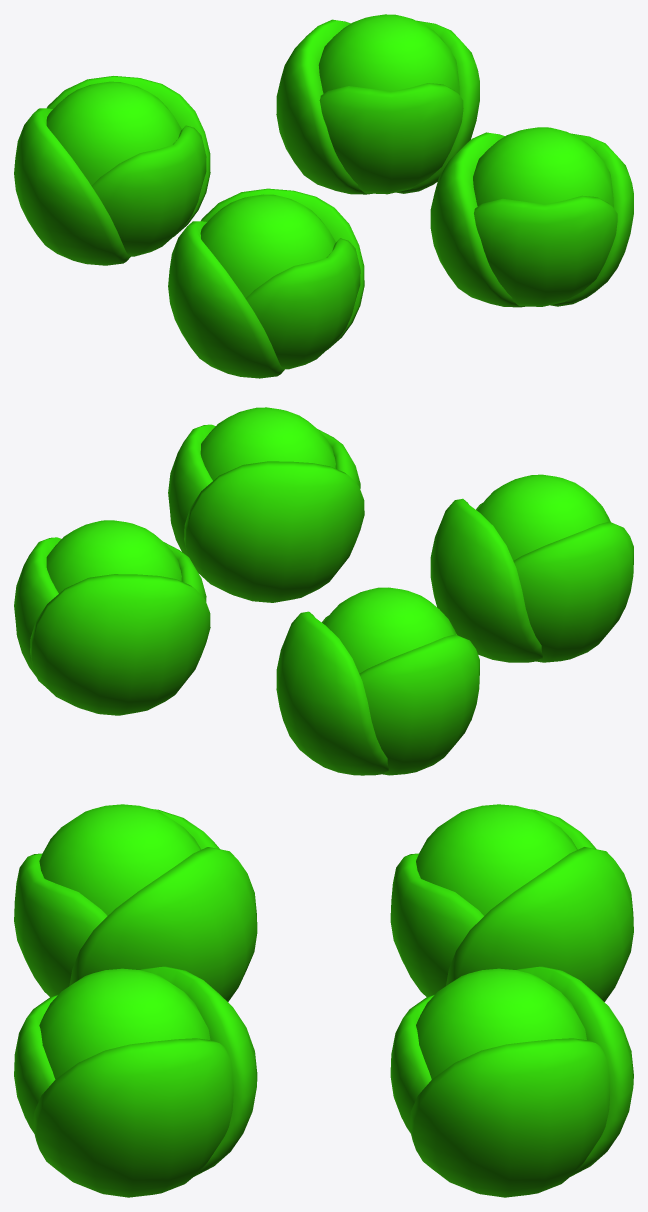
Rendered from Farm_Crop_Cabbage_Step_03.fbx.
3 views of the same model, one above another, from view 1: azimuth 30°, elevation 25°; view 2: azimuth 150°, elevation 25°; view 3: azimuth 270°, elevation 25° (orthographic). The views are drawn at different scales.
Visible parts, largest first — view 1: Farm_Crop_Cabbage_Step_03; view 2: Farm_Crop_Cabbage_Step_03; view 3: Farm_Crop_Cabbage_Step_03.
Part boxes in pixels (x1,y1,x2,y2): Farm_Crop_Cabbage_Step_03: [14, 14, 633, 378]; Farm_Crop_Cabbage_Step_03: [14, 407, 633, 775]; Farm_Crop_Cabbage_Step_03: [14, 804, 633, 1197].
Bounding box in the file's own units: 166 × 59.13 × 165.
